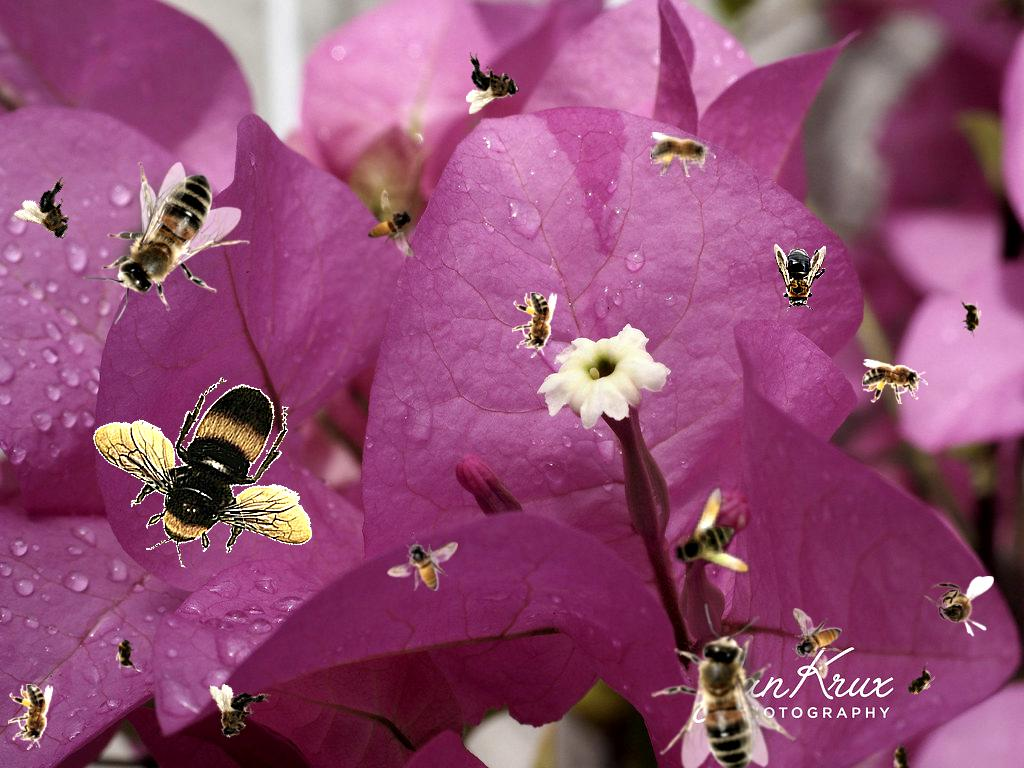Bee: (605, 581, 838, 768), (92, 377, 312, 568), (83, 162, 250, 324), (667, 477, 769, 583), (11, 173, 94, 253), (203, 682, 272, 744), (924, 576, 994, 637), (792, 608, 842, 679), (387, 541, 458, 591), (366, 188, 416, 259), (774, 244, 826, 312), (466, 52, 519, 114), (8, 684, 53, 750), (512, 292, 557, 358), (650, 132, 716, 177), (862, 359, 928, 404), (896, 661, 942, 705), (960, 298, 982, 338), (115, 633, 137, 673), (889, 737, 917, 768)
